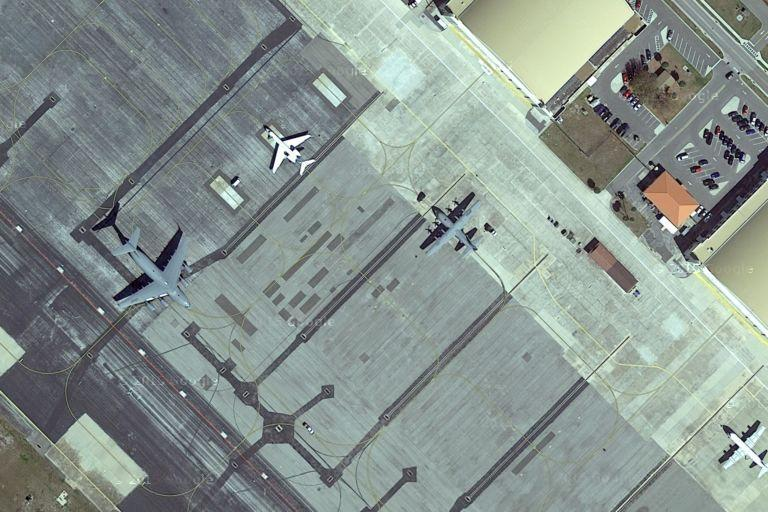C-130: (422, 192, 486, 264)
C-17: (104, 221, 202, 319)
P-3C: (719, 420, 766, 479)
plane: (264, 120, 319, 181)
